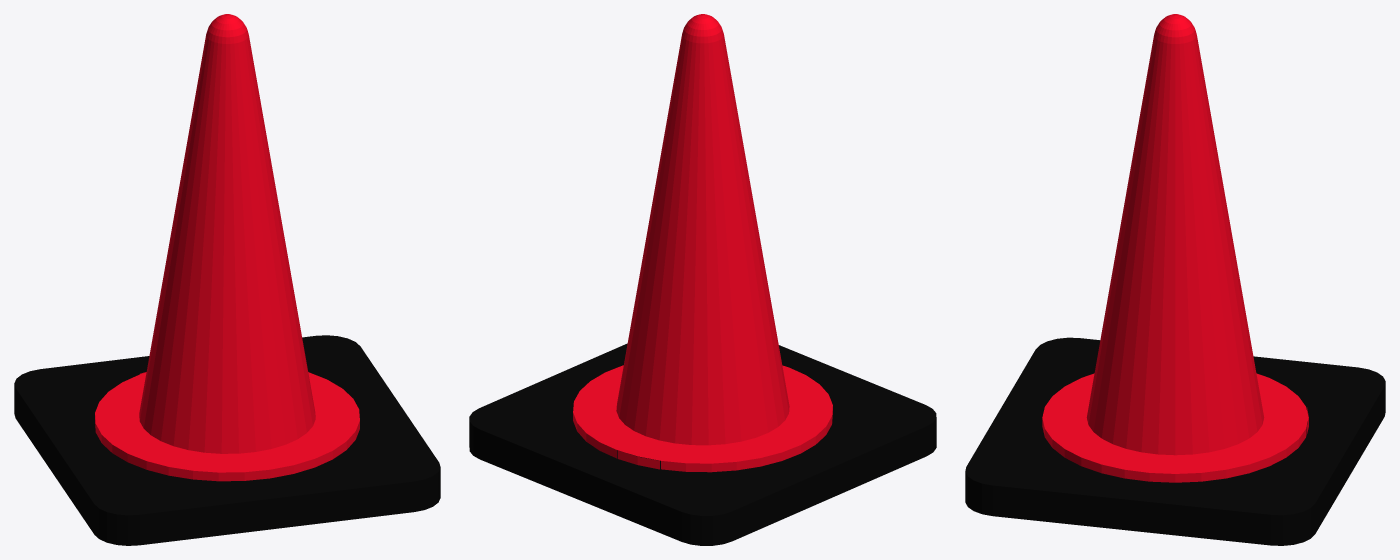
The model's file is コーン.fbx.
The picture shows the model from 3 angles, left to right: view 1: azimuth 30°, elevation 25°; view 2: azimuth 150°, elevation 25°; view 3: azimuth 270°, elevation 25°; orthographic projection. The views are drawn at different scales.
Visible parts, largest first — view 1: 円柱.004; view 2: 円柱.004; view 3: 円柱.004.
Boxes of the visible parts, box(x1,y1,x2,y2) form: 円柱.004: box(14, 14, 440, 545); 円柱.004: box(469, 14, 936, 545); 円柱.004: box(965, 14, 1385, 545).
Size of the model in its own units: 13.52 by 15.67 by 13.52.
